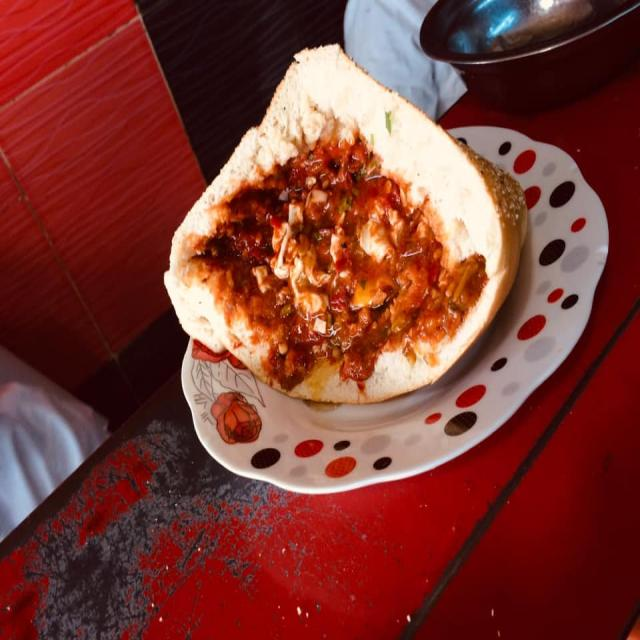Sandwitch tounsi: (184, 49, 528, 398)
